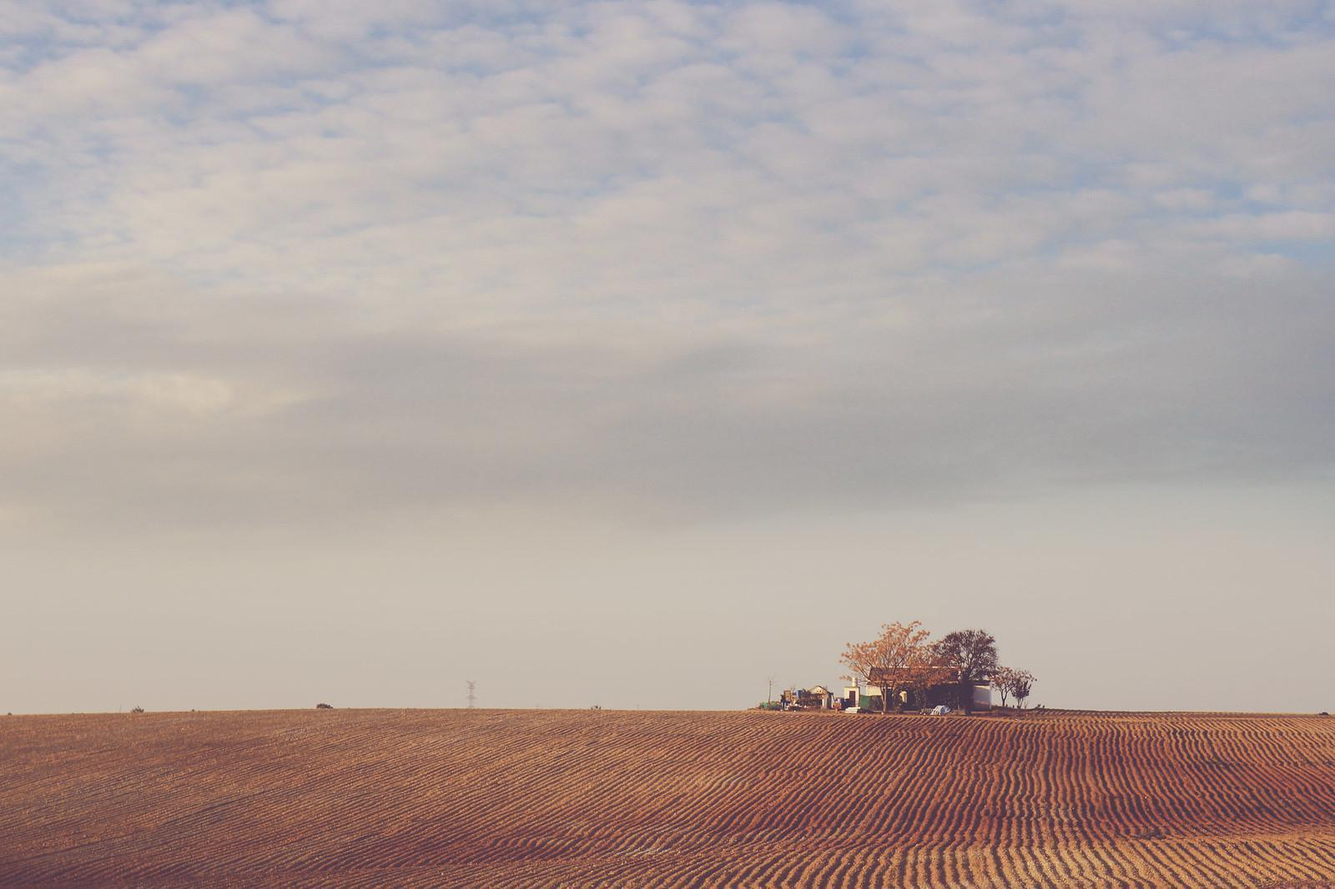power_tower: (463, 677, 480, 708)
